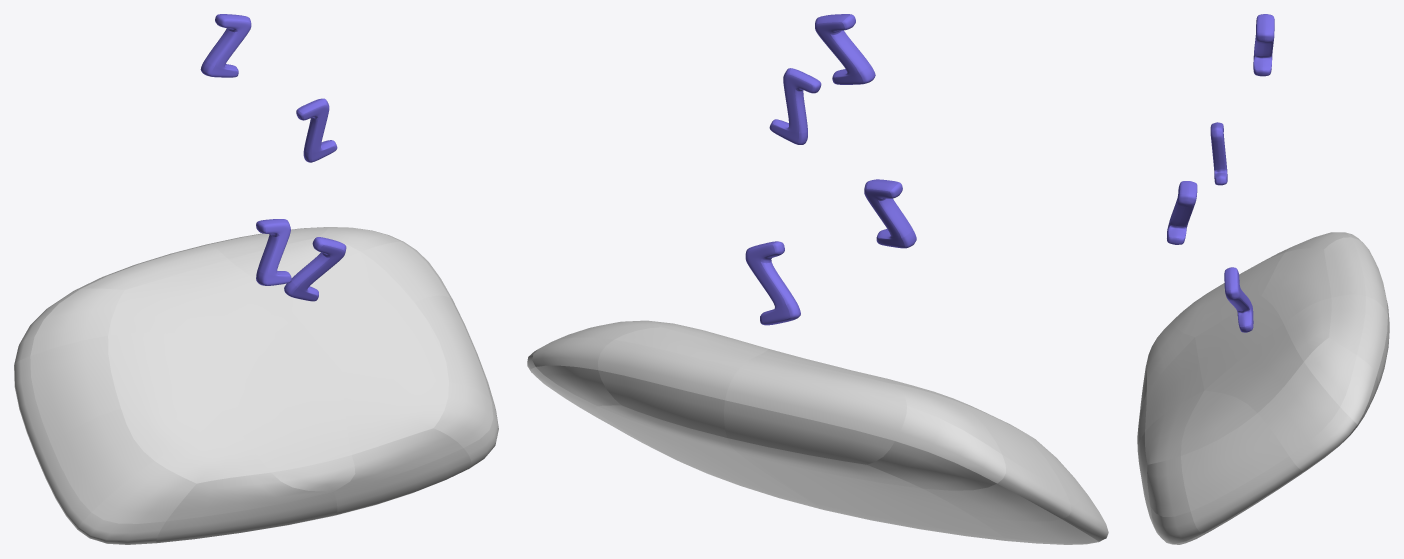
Rendered from position.glb.
3 renders of one model, left to right at view 1: azimuth 30°, elevation 25°; view 2: azimuth 150°, elevation 25°; view 3: azimuth 270°, elevation 25°, orthographic. The views are drawn at different scales.
Visible parts, largest first — view 1: SM_Prop_Bed_Pillow_01, SM_Icon_Text_Z.003, SM_Icon_Text_Z, SM_Icon_Text_Z.001, SM_Icon_Text_Z.002; view 2: SM_Prop_Bed_Pillow_01, SM_Icon_Text_Z.003, SM_Icon_Text_Z, SM_Icon_Text_Z.001, SM_Icon_Text_Z.002; view 3: SM_Prop_Bed_Pillow_01, SM_Icon_Text_Z.001, SM_Icon_Text_Z.003, SM_Icon_Text_Z, SM_Icon_Text_Z.002.
Boxes of the visible parts, x1=… form: SM_Prop_Bed_Pillow_01: x1=14, y1=227, x2=498, y2=544; SM_Icon_Text_Z.003: x1=200, y1=14, x2=251, y2=77; SM_Icon_Text_Z: x1=284, y1=237, x2=346, y2=301; SM_Icon_Text_Z.001: x1=256, y1=219, x2=291, y2=285; SM_Icon_Text_Z.002: x1=296, y1=98, x2=337, y2=162; SM_Prop_Bed_Pillow_01: x1=527, y1=320, x2=1108, y2=544; SM_Icon_Text_Z.003: x1=815, y1=14, x2=875, y2=84; SM_Icon_Text_Z: x1=745, y1=241, x2=800, y2=325; SM_Icon_Text_Z.001: x1=864, y1=179, x2=916, y2=248; SM_Icon_Text_Z.002: x1=769, y1=68, x2=821, y2=144; SM_Prop_Bed_Pillow_01: x1=1137, y1=232, x2=1389, y2=544; SM_Icon_Text_Z.001: x1=1167, y1=181, x2=1197, y2=244; SM_Icon_Text_Z.003: x1=1253, y1=14, x2=1274, y2=76; SM_Icon_Text_Z: x1=1224, y1=267, x2=1253, y2=332; SM_Icon_Text_Z.002: x1=1210, y1=122, x2=1227, y2=185.
Size of the model in its own units: 1.15 by 1.19 by 0.6061.
